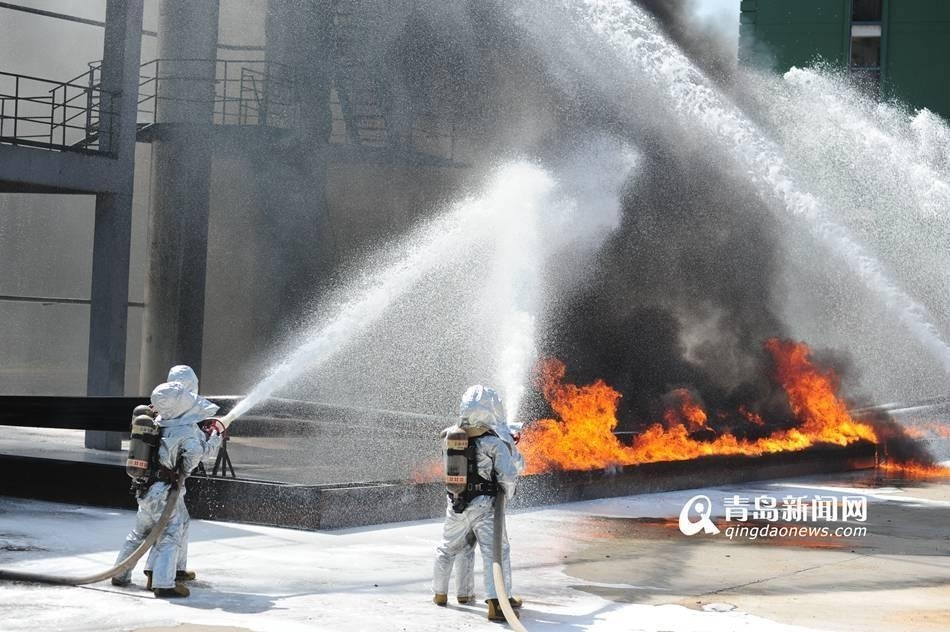fire: (522, 341, 950, 479)
